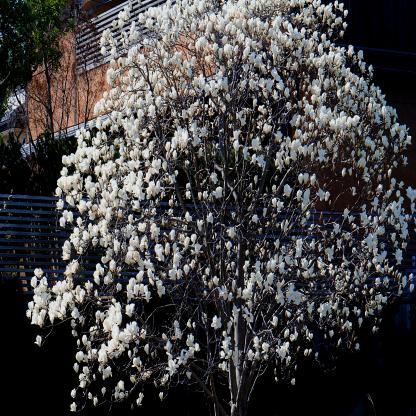Mokuren: (25, 0, 416, 416)
